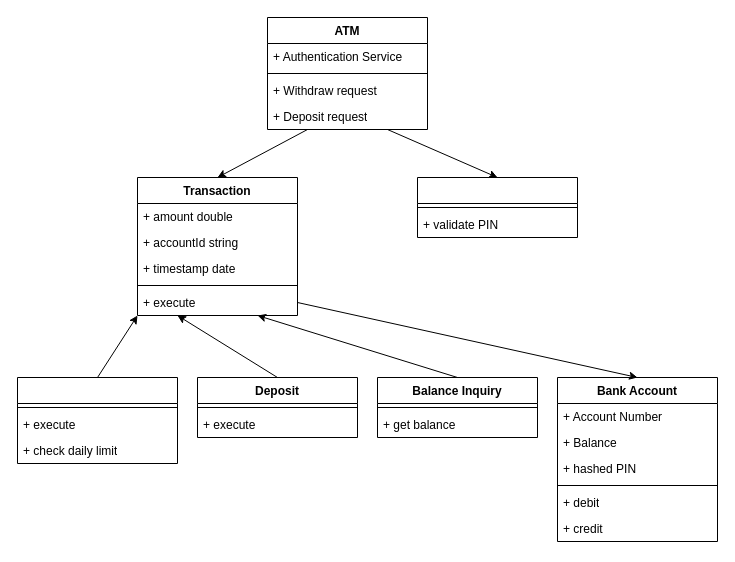
This 735x562 diagram has some shape labels left out. Each missing label, with the box of its shape:
Authentication Service: (416, 176, 578, 238)
Withdrawal: (16, 376, 178, 464)
